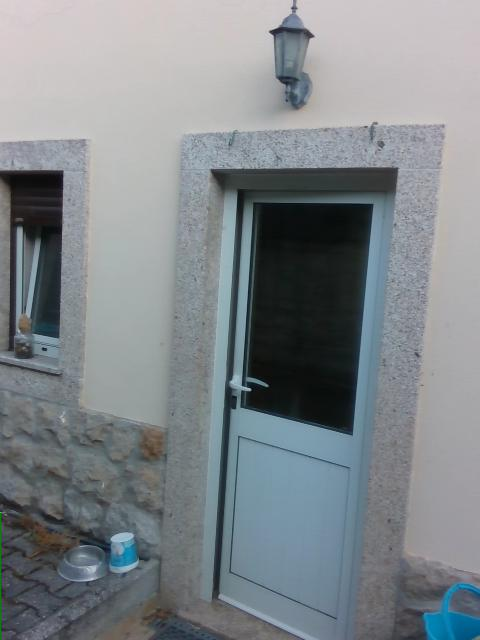door: (200, 166, 397, 639)
